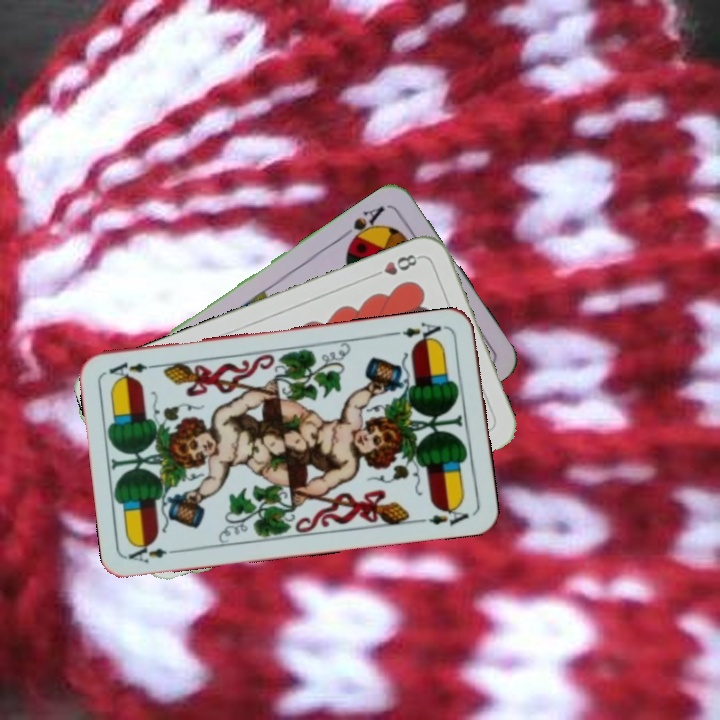EA: (125, 539, 185, 566), (390, 318, 444, 347)
H8: (367, 250, 424, 281)
SA: (337, 201, 388, 249)
